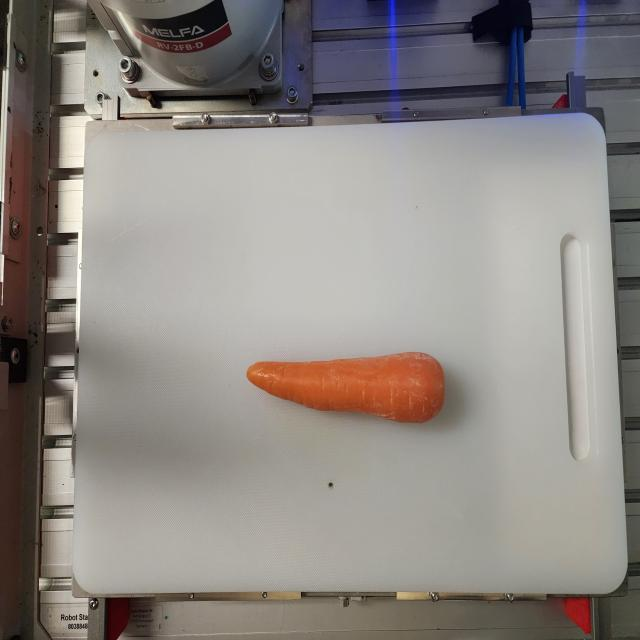carrot: (246, 351, 445, 424)
